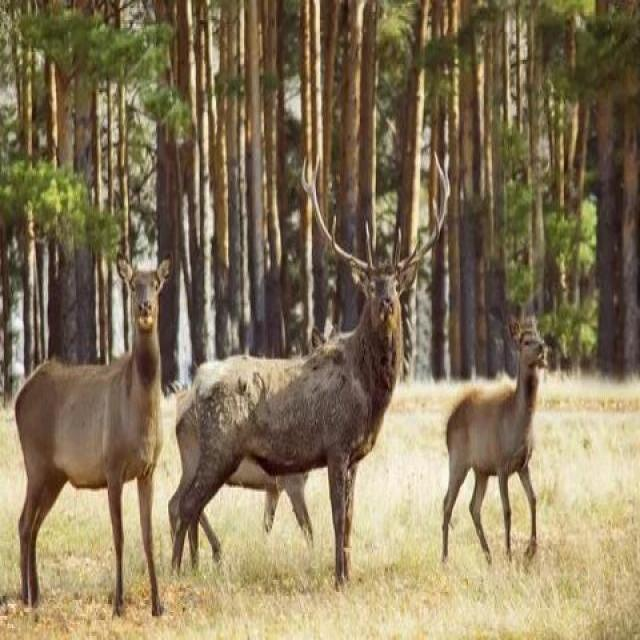deer: (185, 131, 423, 584), (12, 229, 189, 640)
